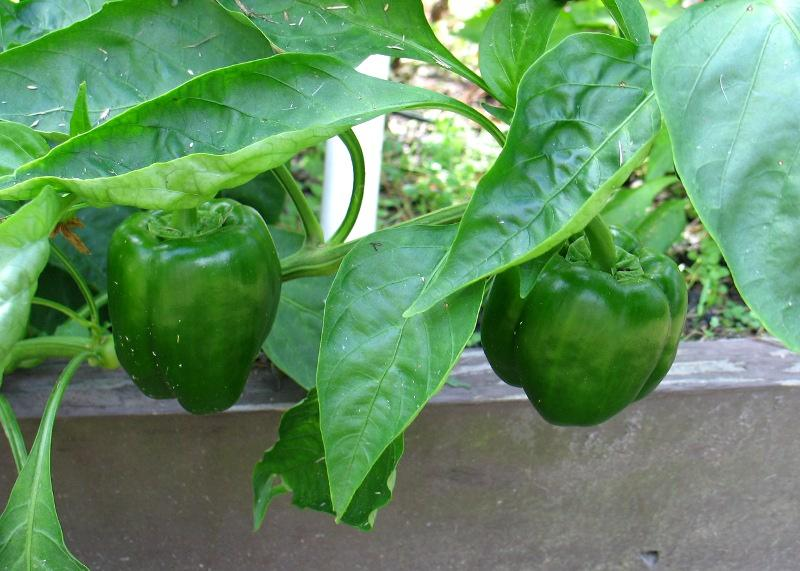Bell_pepper leaf spot: (406, 32, 674, 322), (32, 55, 471, 206), (655, 1, 800, 355), (322, 221, 490, 518)
